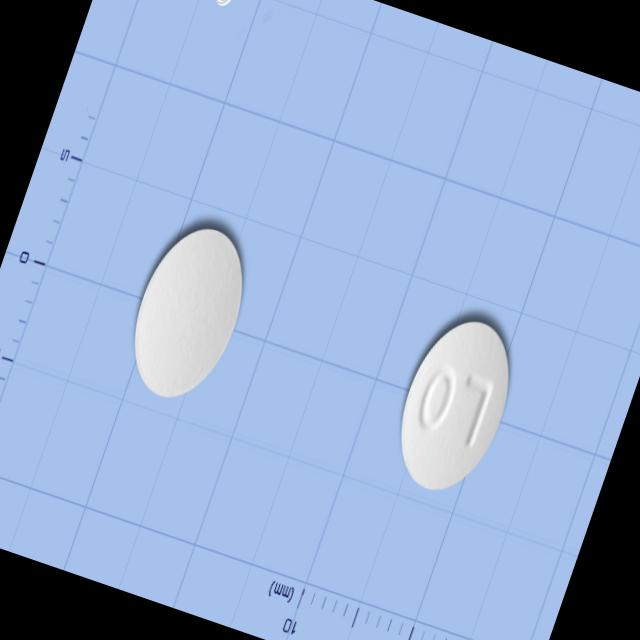Lebofacin: (379, 306, 529, 506)
